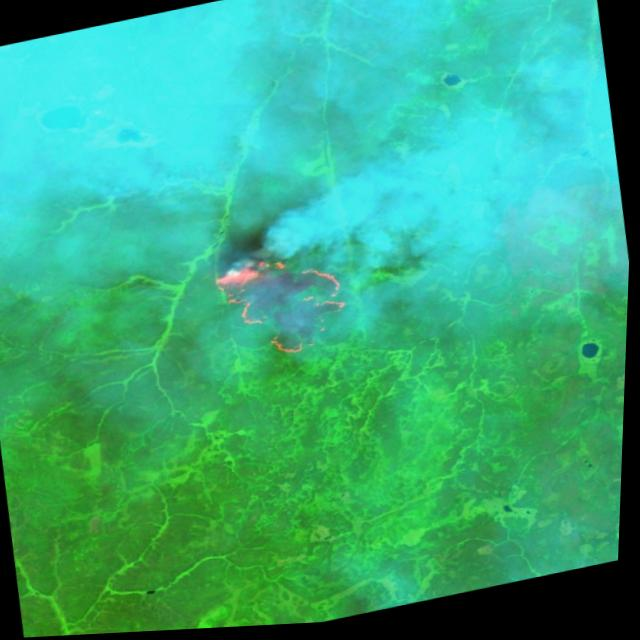fire: (204, 238, 360, 380)
